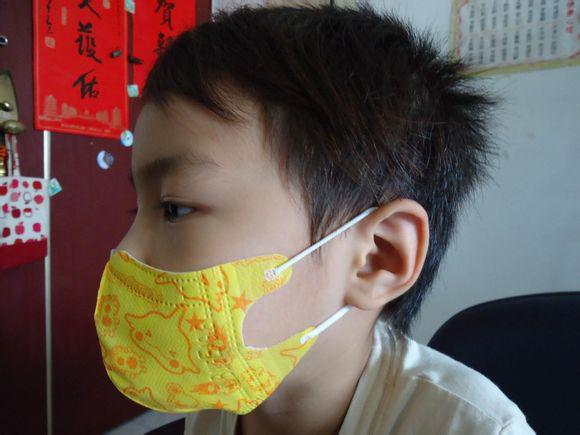WRONG: (96, 146, 336, 409)
